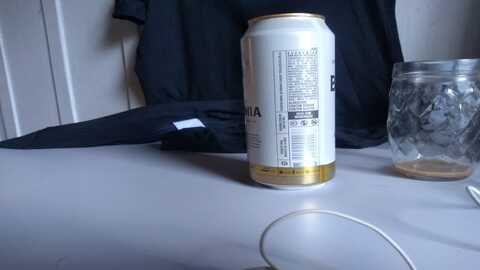bohemia: (238, 16, 343, 194)
